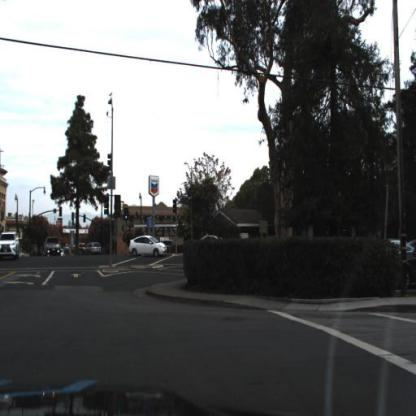car: (129, 234, 170, 258), (128, 235, 168, 257), (1, 230, 23, 261), (43, 236, 62, 259), (86, 238, 103, 257)
